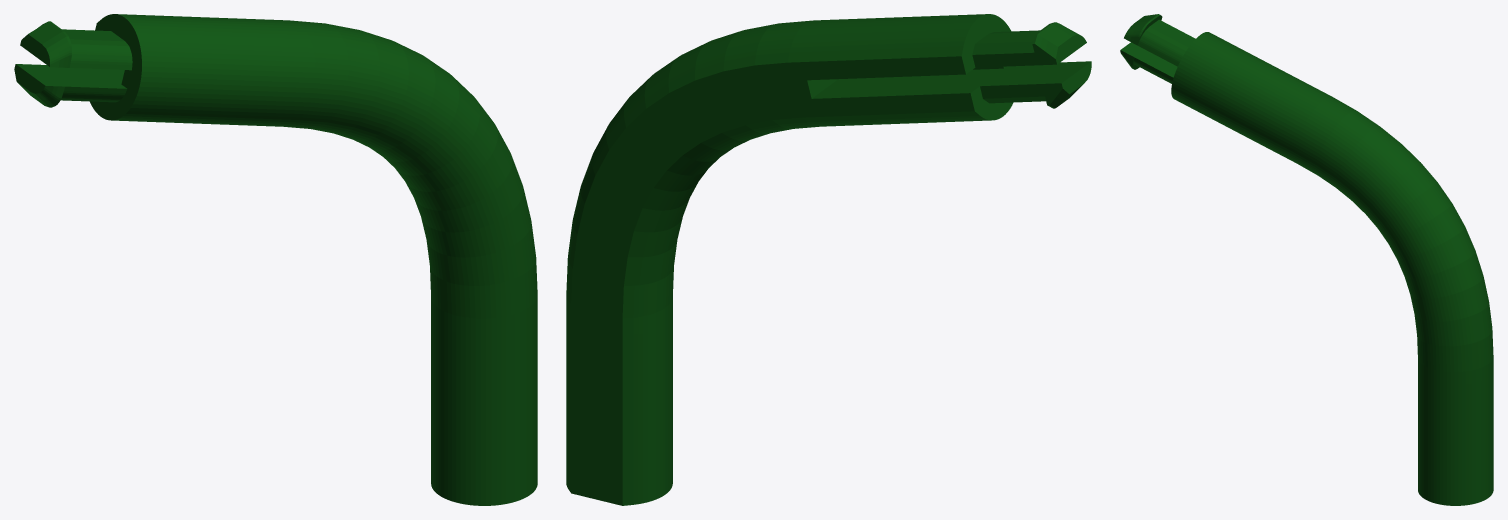
File: stem_1A_75_L.glb
3 views of the same model, side by side, from view 1: azimuth 30°, elevation 25°; view 2: azimuth 150°, elevation 25°; view 3: azimuth 330°, elevation 25° (orthographic). The views are drawn at different scales.
Visible parts, largest first — view 1: stem_1A_75L; view 2: stem_1A_75L; view 3: stem_1A_75L.
Boxes of the visible parts, bbox=[...] form: stem_1A_75L: bbox=[14, 14, 537, 505]; stem_1A_75L: bbox=[566, 14, 1091, 505]; stem_1A_75L: bbox=[1120, 14, 1493, 505].
Size of the model in its own units: 0.0394 by 0.0417 by 0.00666.
